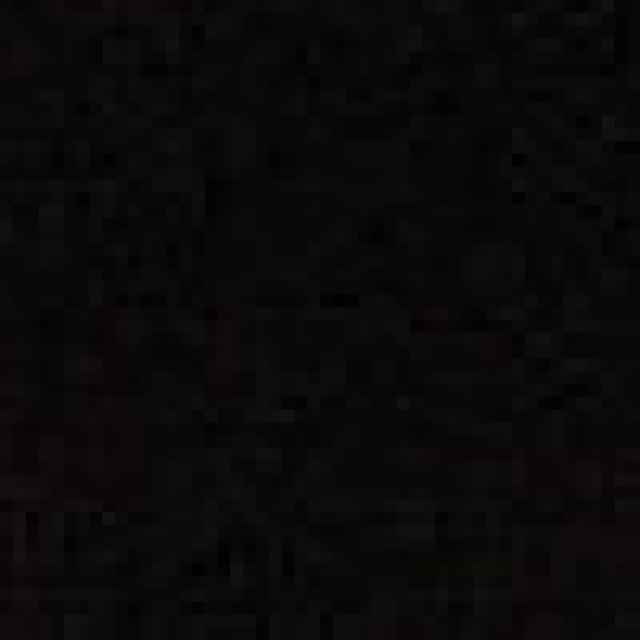no_fire: (5, 36, 640, 591)
